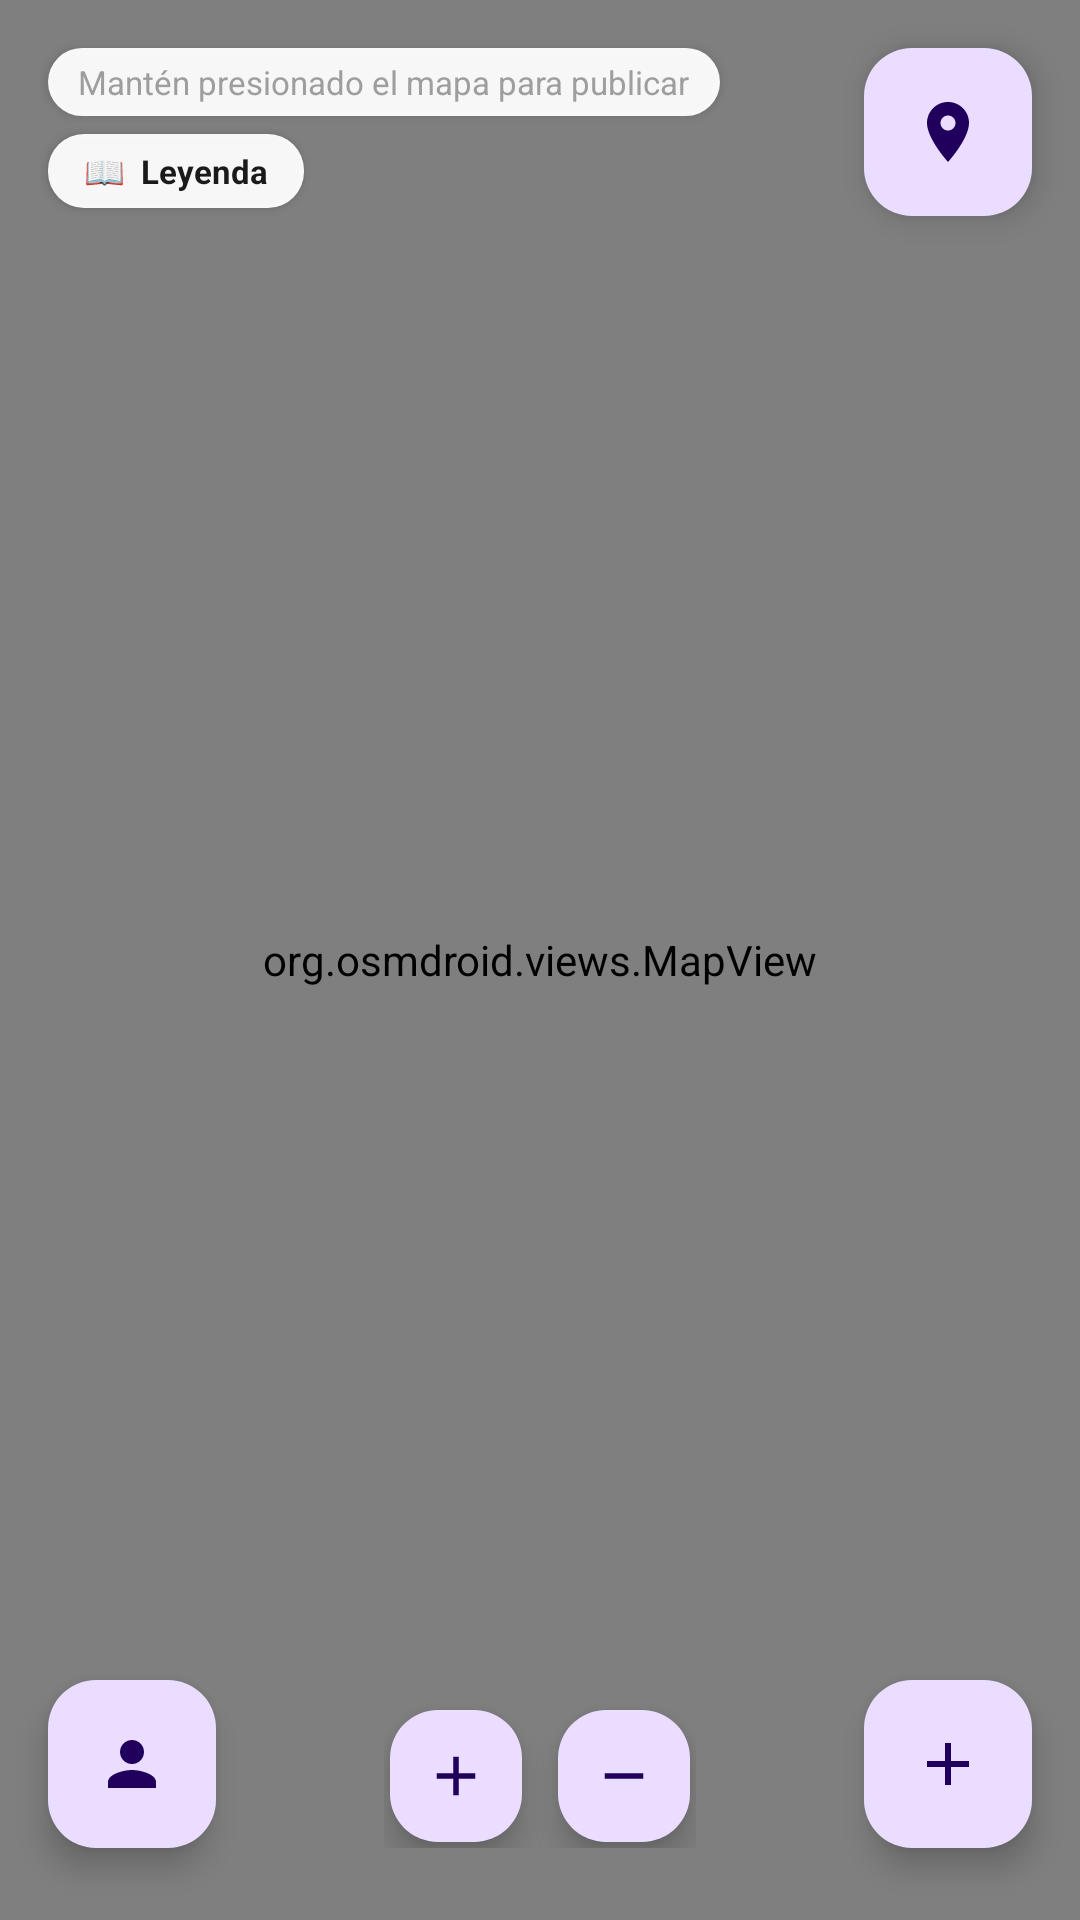

Icon click points for this 1080 × 1920 phone screenshot, format (x,y):
Acercar: (456,1776)
Alejar: (624,1776)
Perfil: (132,1764)
Recentrar: (948,132)
